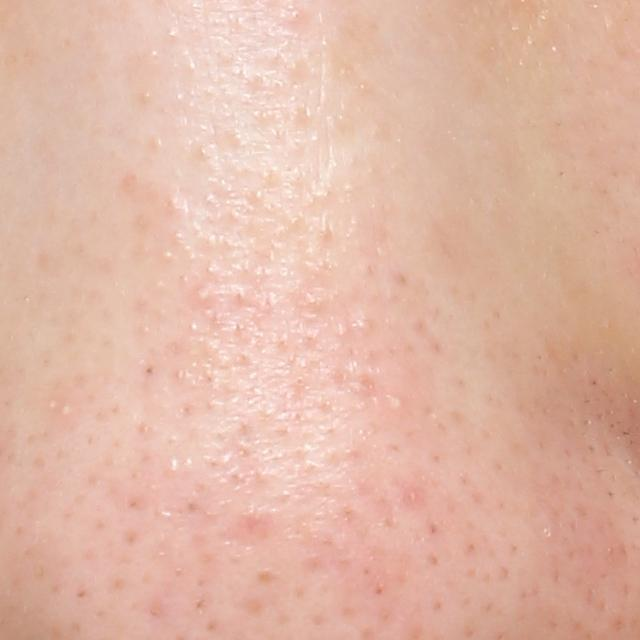comedo: (191, 287, 214, 309), (56, 402, 72, 420)
